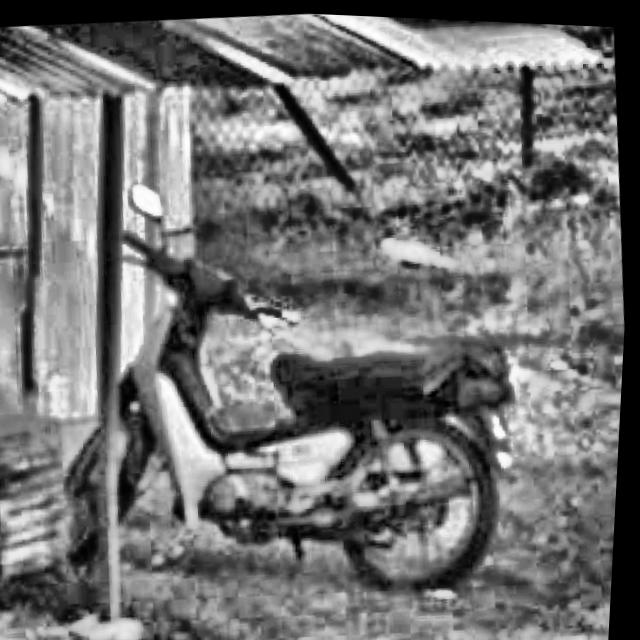motorcycle: (24, 165, 553, 622)
